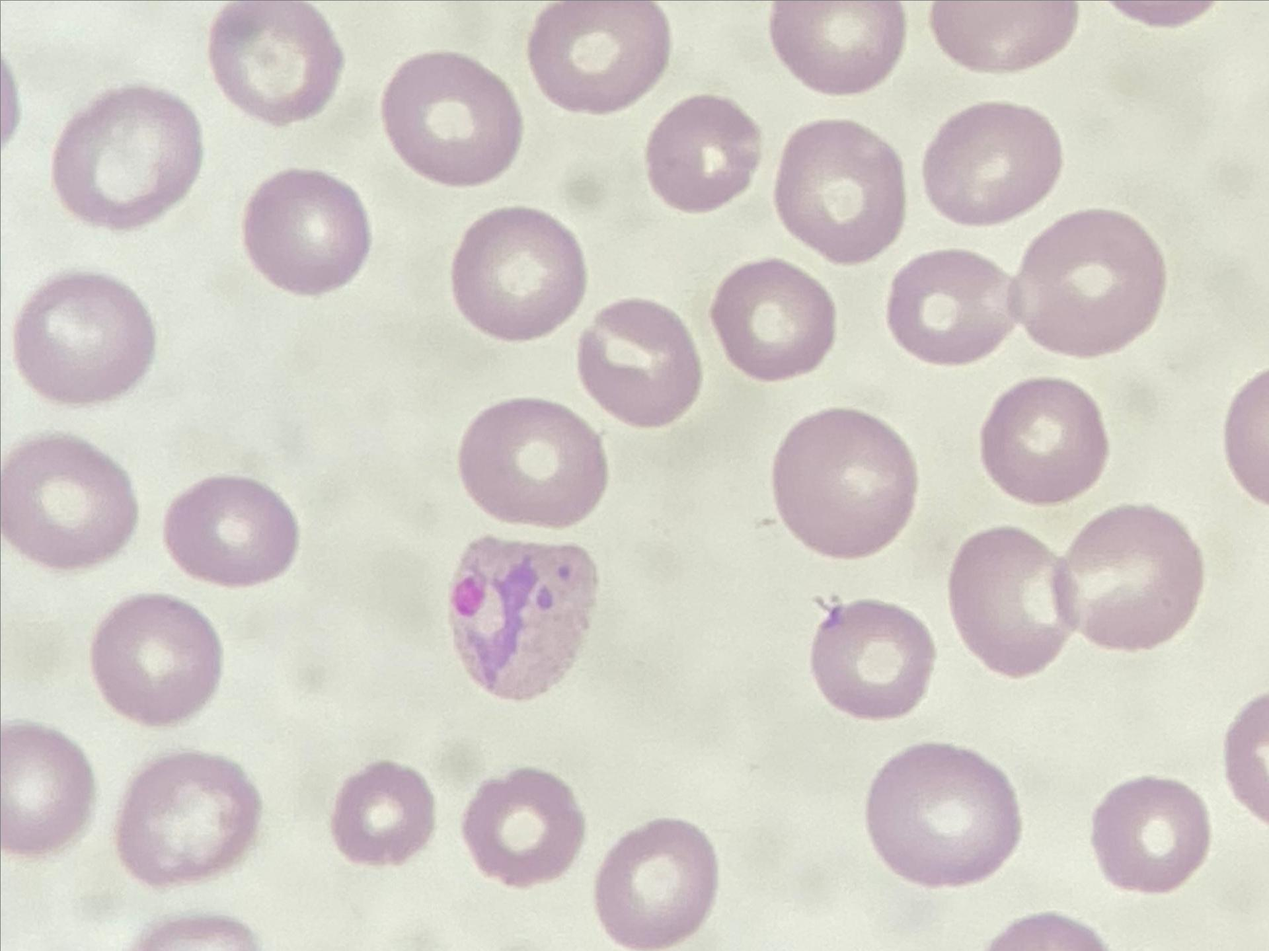Infected: (671, 245, 817, 419)
Uninfected: (245, 60, 408, 208), (354, 389, 494, 545), (107, 598, 260, 738), (66, 308, 218, 447), (1064, 722, 1215, 861), (1003, 65, 1154, 200), (193, 271, 319, 424), (663, 423, 809, 554), (747, 764, 887, 900), (1132, 379, 1269, 516), (1114, 542, 1253, 677), (364, 684, 493, 826), (681, 610, 817, 744), (1046, 223, 1176, 354), (563, 521, 691, 653), (925, 826, 1059, 951), (210, 726, 348, 846), (549, 4, 675, 132), (901, 655, 1026, 784), (165, 446, 292, 571), (248, 582, 382, 698), (601, 840, 740, 951), (433, 570, 555, 689), (972, 364, 1106, 471), (337, 230, 456, 350), (686, 65, 810, 180), (59, 60, 180, 175), (509, 737, 621, 857), (1172, 95, 1269, 229), (362, 858, 498, 951), (833, 80, 939, 188)
